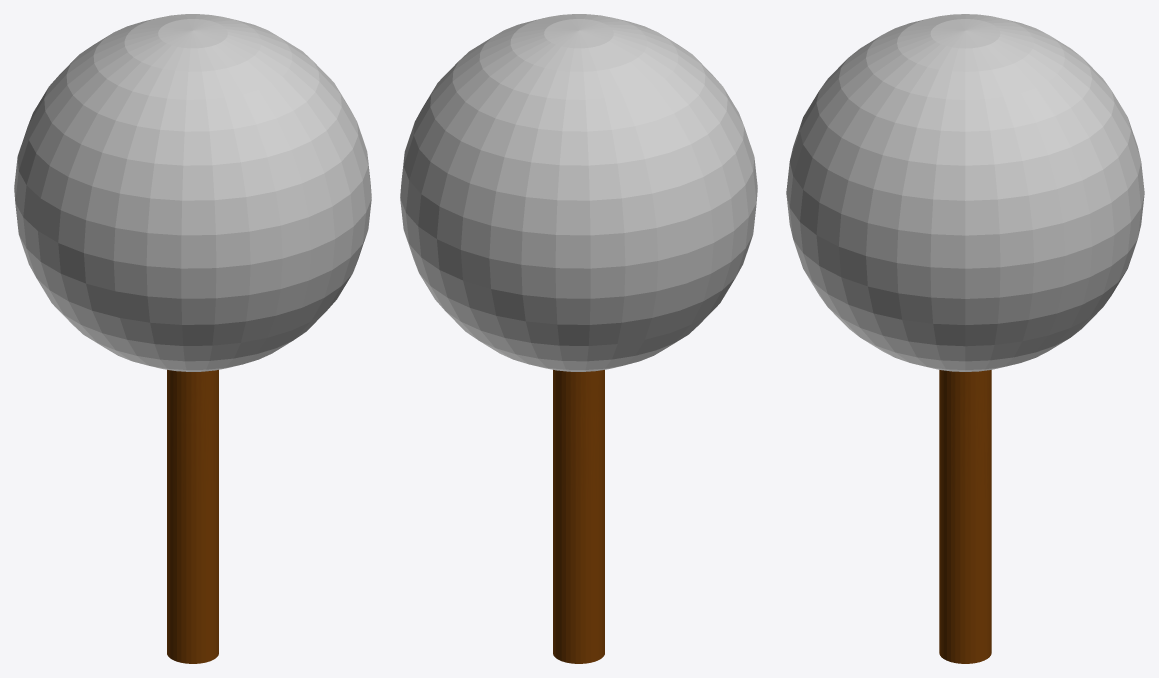
Rendered from pom.obj.
3 views of the same model, side by side, from view 1: azimuth 30°, elevation 25°; view 2: azimuth 150°, elevation 25°; view 3: azimuth 270°, elevation 25° (orthographic).
Parts seen in each view (by area): view 1: Cylinder; view 2: Cylinder; view 3: Cylinder.
Boxes of the visible parts, x1,y1,x2,y2 form: Cylinder: (14, 14, 371, 663); Cylinder: (400, 14, 757, 663); Cylinder: (786, 14, 1144, 663).
Bounding box in the file's own units: 2 × 3.83 × 2.
2 materials, 1 textured.
